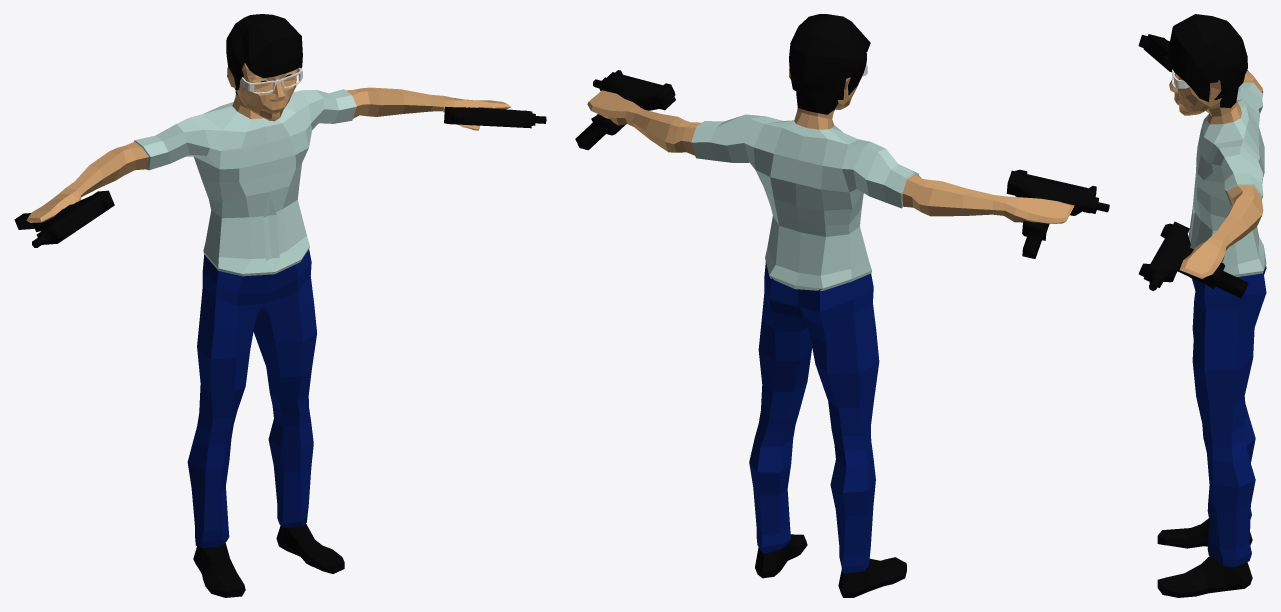
File: kojima.fbx
3 renders of one model, left to right at view 1: azimuth 30°, elevation 25°; view 2: azimuth 150°, elevation 25°; view 3: azimuth 270°, elevation 25°, orthographic.
Visible parts, largest first — view 1: Kojiima, Hair; view 2: Kojiima, Hair; view 3: Kojiima, Hair.
Boxes of the visible parts, x1,y1,x2,y2 form: Kojiima: (14,63,546,597); Hair: (226,14,302,90); Kojiima: (575,67,1109,597); Hair: (789,14,870,100); Kojiima: (1138,34,1266,597); Hair: (1168,14,1247,101).
Size of the model in its own units: 20.18 by 20.77 by 4.39.
